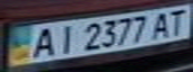2: (78, 19, 103, 52)
3: (100, 17, 121, 48)
7: (130, 12, 154, 43), (115, 15, 136, 46)
A: (24, 25, 60, 58), (148, 10, 175, 38)
I: (51, 22, 81, 55)
T: (163, 7, 190, 36)
